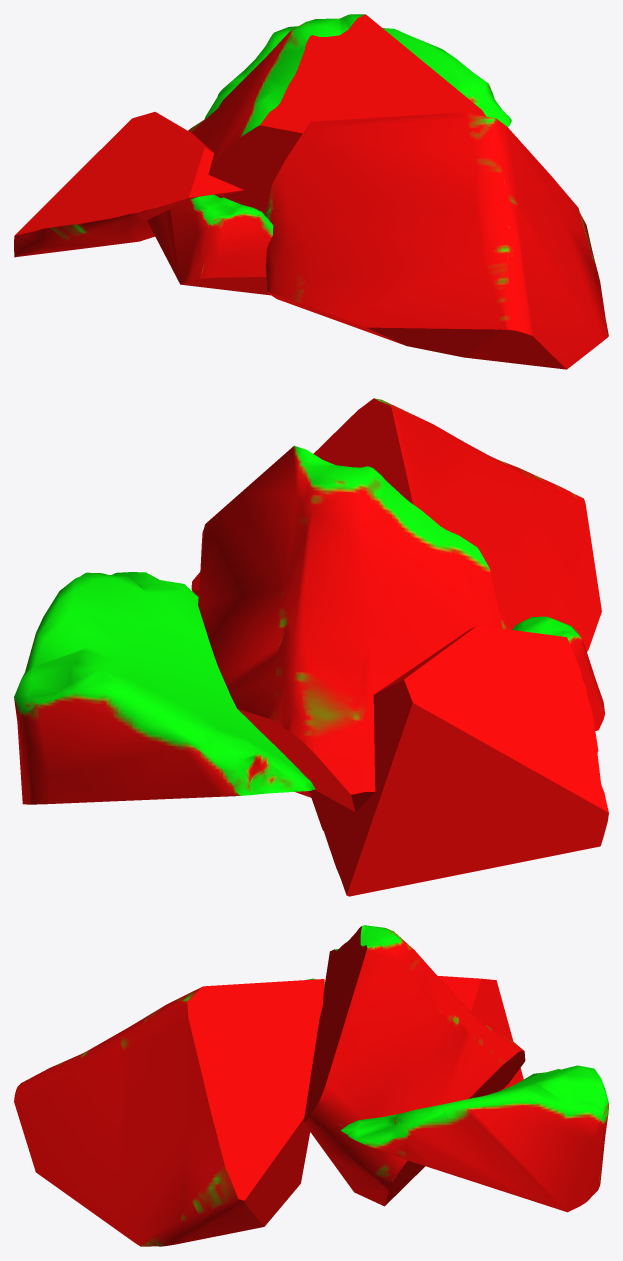
The model's file is SM_Debris_A.FBX.
3 renders of one model, top to bottom at view 1: azimuth 30°, elevation 25°; view 2: azimuth 150°, elevation 25°; view 3: azimuth 270°, elevation 25°, orthographic. The views are drawn at different scales.
Visible parts, largest first — view 1: SM_Debris_A; view 2: SM_Debris_A; view 3: SM_Debris_A.
Boxes of the visible parts, bbox=[...] form: SM_Debris_A: bbox=[14, 14, 608, 369]; SM_Debris_A: bbox=[14, 398, 608, 896]; SM_Debris_A: bbox=[14, 925, 608, 1246].
Bounding box in the file's own units: 365 × 203 × 446.
